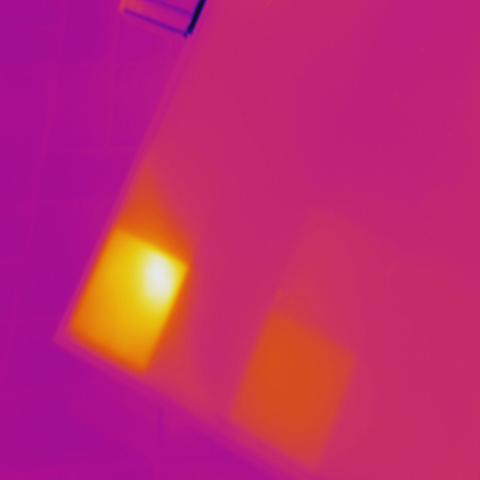fault: (61, 227, 195, 387)
